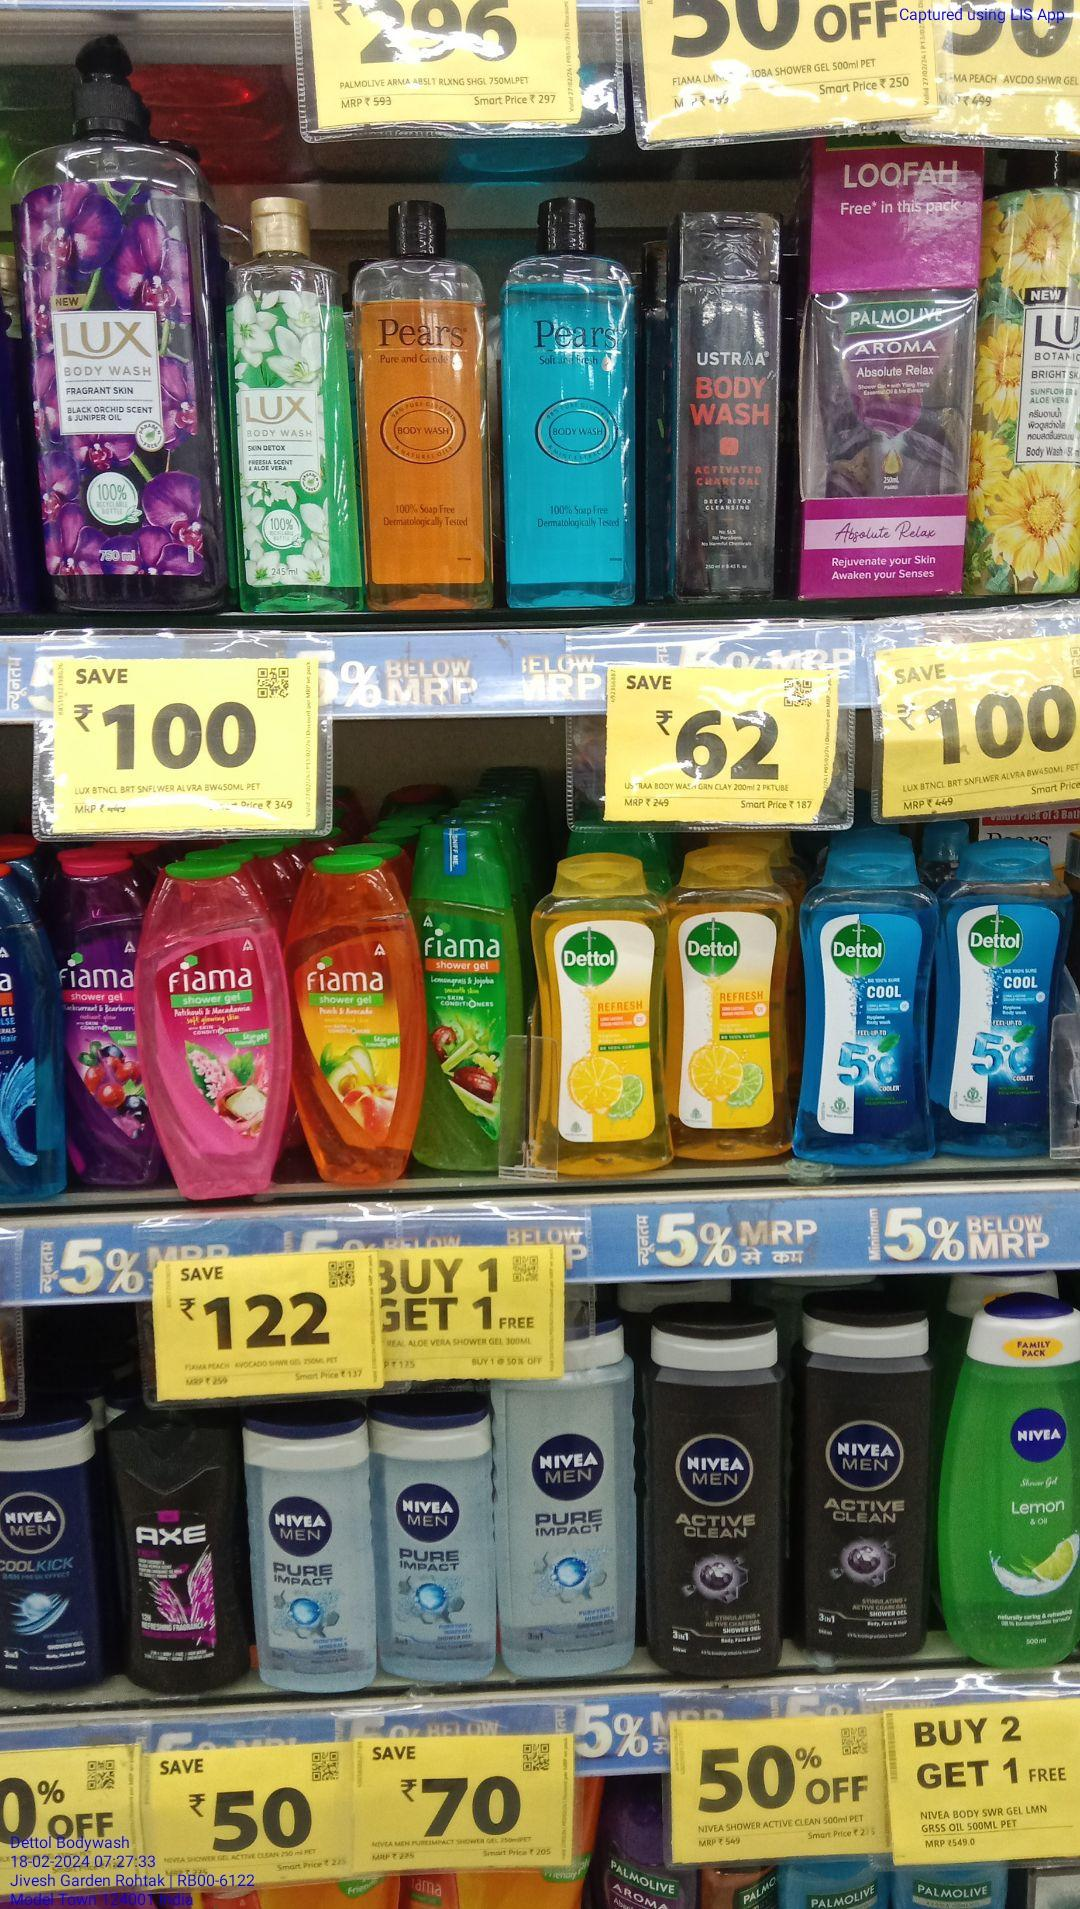Dettol_Bodywash_Cool: (803, 827, 931, 1173), (941, 833, 1052, 1158)
Dettol_Bodywash_Refresh: (527, 850, 670, 1175), (674, 840, 788, 1164)
Fiama_Shower_Gel_Lemongrass_and_Jojoba_250ML: (421, 823, 515, 1175)
Fiama_Shower_Gel_Patchouli_and_Macadamia_250ML: (140, 857, 288, 1198)
Fiama_Shower_Gel_Peach_and_Avocado_250ML: (298, 848, 414, 1188)
Lux_Body_Wash_Skin_Detox_Freesia_Scent_and_Alove_Vera_245ML: (218, 197, 358, 616)
Nivea_Shower_Gel_Lemon_and_Oil_250ML: (936, 1288, 1080, 1660)
Pears_Pure_Glycerin_and_Mint_Extracts_Body_Wash_250ML: (503, 193, 638, 611)
